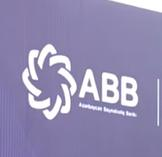ABB: (19, 44, 78, 121)
